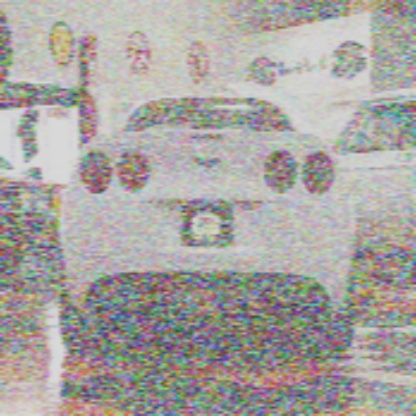Vehicle: (56, 93, 360, 360)
